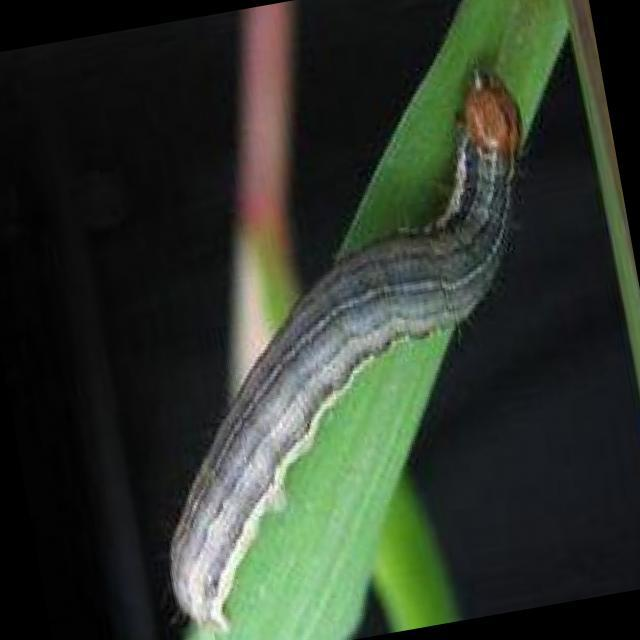Plaga: (74, 33, 619, 640)
